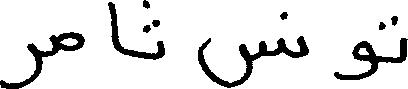X: (199, 8, 282, 88), (0, 38, 39, 88), (336, 36, 375, 84), (57, 27, 83, 57), (110, 0, 120, 57), (157, 15, 163, 63), (399, 33, 407, 67), (298, 31, 306, 62)
